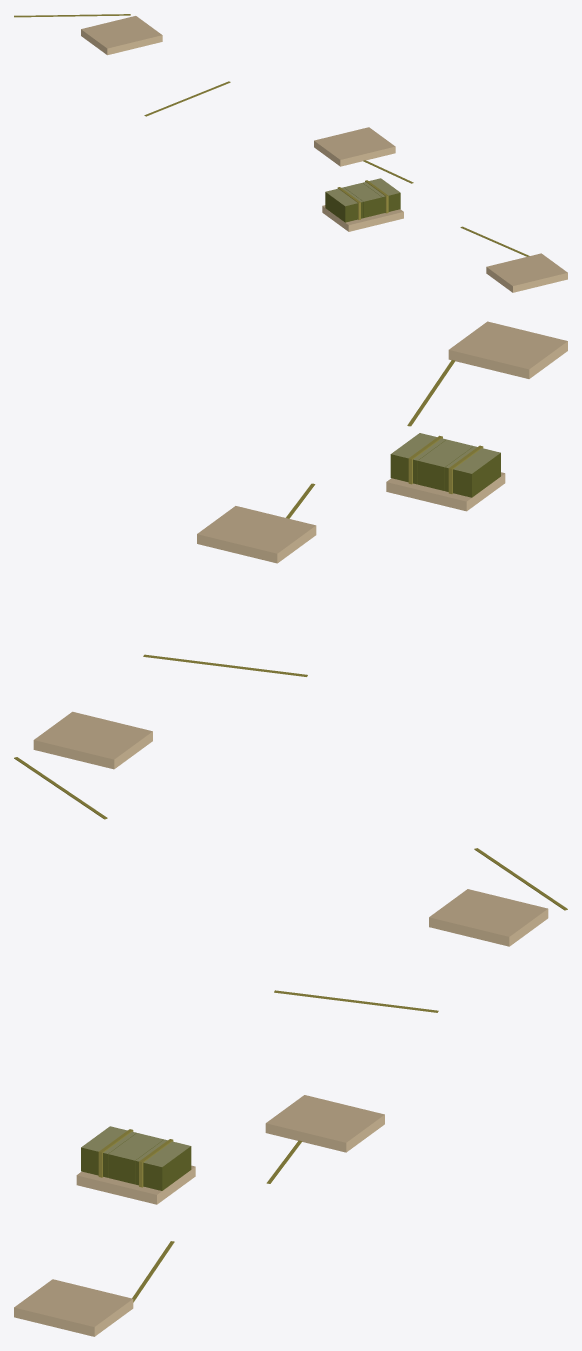
The model's file is SM_CargaMunicion_Vacio_LOD0.fbx.
3 views of the same model, one above another, from view 1: azimuth 30°, elevation 25°; view 2: azimuth 150°, elevation 25°; view 3: azimuth 330°, elevation 25° (orthographic). The views are drawn at different scales.
Visible parts, largest first — view 1: SM_carga_vagon_v2_LOD0; view 2: SM_carga_vagon_v2_LOD0; view 3: SM_carga_vagon_v2_LOD0.
Boxes of the visible parts, left/top/right/bottom form: SM_carga_vagon_v2_LOD0: left=14, top=14, right=567, bottom=292; SM_carga_vagon_v2_LOD0: left=14, top=321, right=567, bottom=819; SM_carga_vagon_v2_LOD0: left=14, top=848, right=567, bottom=1336.
Bounding box in the file's own units: 3.26 × 0.5 × 15.39.
